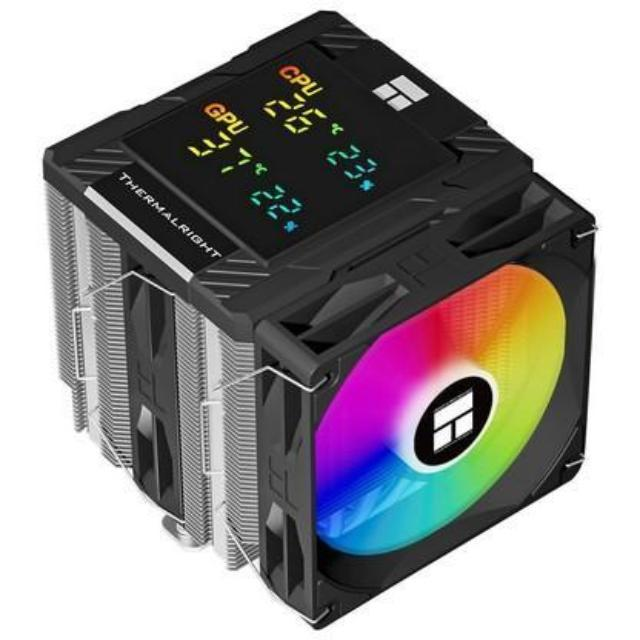CPU_Fan: (40, 12, 595, 640)
